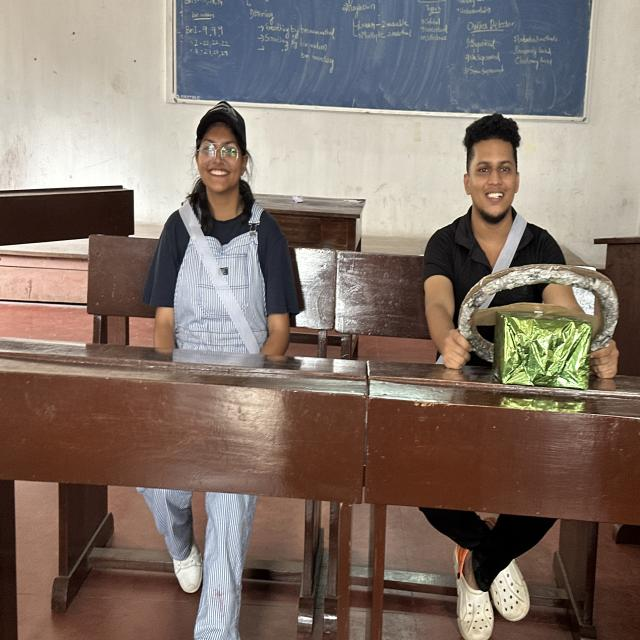seatbelt: (140, 200, 299, 354), (418, 219, 586, 353)
